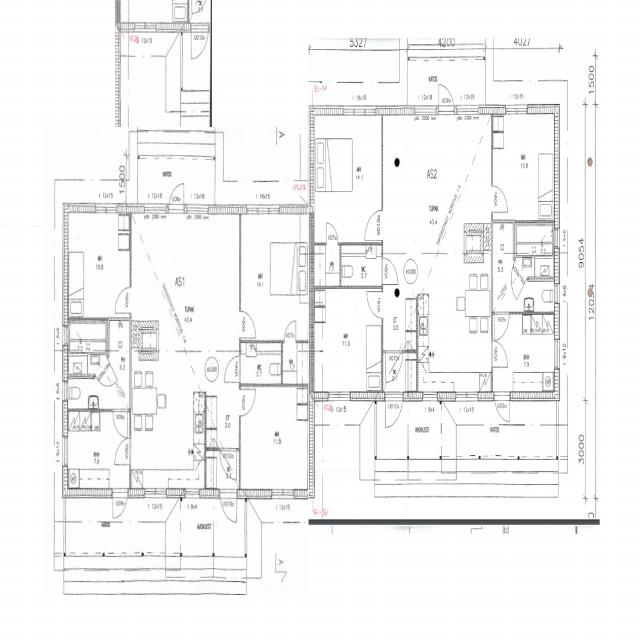door: (95, 357, 117, 397), (506, 259, 528, 299), (220, 489, 237, 528), (386, 392, 402, 431), (112, 489, 128, 525), (494, 392, 510, 427), (439, 78, 454, 115), (365, 210, 383, 240), (169, 178, 184, 213), (220, 448, 236, 480), (386, 350, 402, 382), (239, 311, 256, 338), (366, 291, 383, 318), (239, 389, 256, 415), (224, 356, 241, 382), (491, 186, 508, 212), (113, 409, 128, 438), (494, 311, 509, 340), (382, 258, 398, 284), (115, 439, 131, 464), (115, 288, 131, 312), (491, 342, 507, 366), (284, 320, 296, 343), (327, 223, 338, 245)
